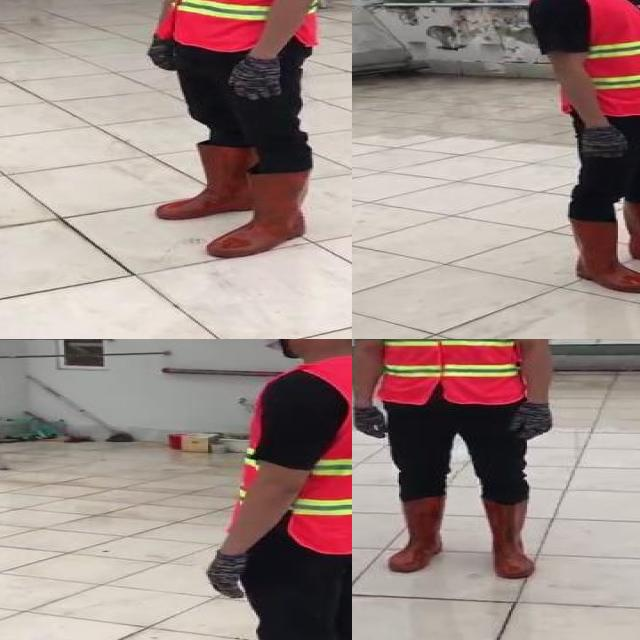boots: (148, 136, 270, 223), (208, 168, 314, 261), (554, 215, 640, 294), (479, 498, 536, 579), (385, 496, 443, 574)
hand_glove: (228, 57, 284, 99), (572, 122, 630, 162), (208, 554, 252, 600), (510, 402, 556, 442), (352, 407, 390, 443)
person: (130, 0, 352, 262), (352, 339, 570, 582), (187, 339, 352, 640), (522, 0, 640, 297)
vest: (222, 360, 352, 555), (530, 0, 640, 116), (372, 339, 537, 405), (159, 0, 328, 48)
